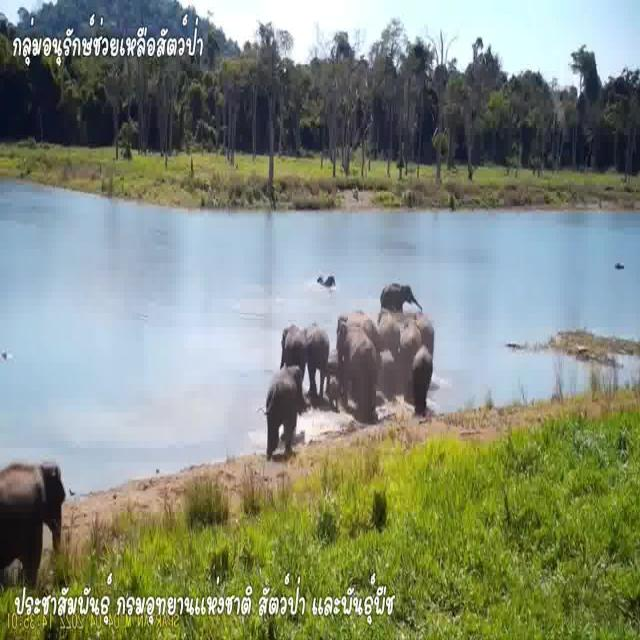Elephant: (0, 457, 63, 564), (335, 321, 377, 405), (263, 372, 303, 442), (276, 315, 308, 369), (413, 343, 434, 413), (311, 324, 330, 399), (380, 273, 414, 314), (380, 342, 398, 398)
